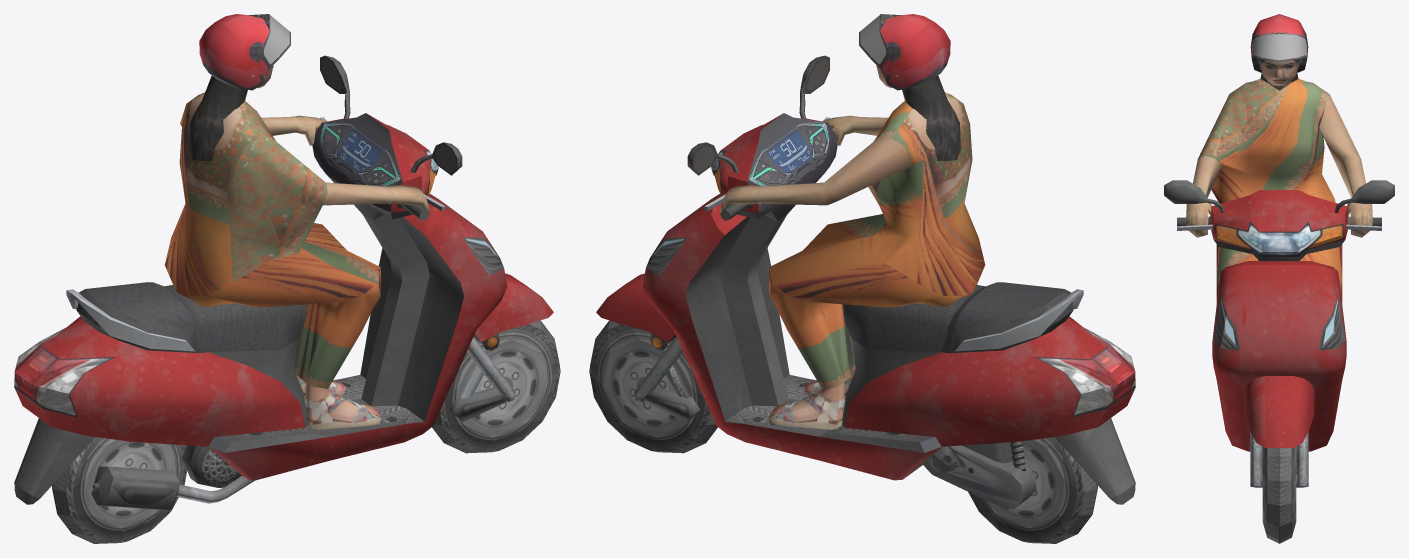
The model's file is sf_motorbike_02.glb.
The picture shows the model from 3 angles, left to right: view 1: azimuth 30°, elevation 25°; view 2: azimuth 150°, elevation 25°; view 3: azimuth 270°, elevation 25°; orthographic projection. The views are drawn at different scales.
Parts seen in each view (by area): view 1: traffic_motorbike_02, traffic_motorbike_02_front_traffic_motorbike_01_component_1_, traffic_motorbike_02_rear_traffic_motorbike_01_component_1_0, traffic_motorbike_02_light_break_traffic_motorbike_01_light_, traffic_motorbike_02_light_rear, traffic_motorbike_02_light, traffic_motorbike_02_turn_R; view 2: traffic_motorbike_02, traffic_motorbike_02_front_traffic_motorbike_01_component_1_, traffic_motorbike_02_rear_traffic_motorbike_01_component_1_0, traffic_motorbike_02_light_break_traffic_motorbike_01_light_, traffic_motorbike_02_light_rear, traffic_motorbike_02_light, traffic_motorbike_02_turn_L; view 3: traffic_motorbike_02, traffic_motorbike_02_light, traffic_motorbike_02_front_traffic_motorbike_01_component_1_, traffic_motorbike_02_turn_L, traffic_motorbike_02_turn_R.
Boxes of the visible parts, <box> form: traffic_motorbike_02: <box>14,14,553,509</box>; traffic_motorbike_02_front_traffic_motorbike_01_component_1_: <box>432,320,560,453</box>; traffic_motorbike_02_rear_traffic_motorbike_01_component_1_0: <box>52,437,186,543</box>; traffic_motorbike_02_light_break_traffic_motorbike_01_light_: <box>14,335,94,403</box>; traffic_motorbike_02_light_rear: <box>14,328,115,417</box>; traffic_motorbike_02_light: <box>423,150,503,275</box>; traffic_motorbike_02_turn_R: <box>42,166,436,393</box>; traffic_motorbike_02: <box>596,14,1135,508</box>; traffic_motorbike_02_front_traffic_motorbike_01_component_1_: <box>589,320,717,453</box>; traffic_motorbike_02_rear_traffic_motorbike_01_component_1_0: <box>968,437,1097,543</box>; traffic_motorbike_02_light_break_traffic_motorbike_01_light_: <box>1055,335,1135,403</box>; traffic_motorbike_02_light_rear: <box>1034,328,1135,417</box>; traffic_motorbike_02_light: <box>646,150,726,275</box>; traffic_motorbike_02_turn_L: <box>713,166,1107,393</box>; traffic_motorbike_02: <box>1164,14,1394,487</box>; traffic_motorbike_02_light: <box>1214,221,1344,350</box>; traffic_motorbike_02_front_traffic_motorbike_01_component_1_: <box>1262,447,1296,543</box>; traffic_motorbike_02_turn_L: <box>1306,224,1343,249</box>; traffic_motorbike_02_turn_R: <box>1215,224,1252,249</box>.
Bounding box in the file's own units: 1.74 × 1.53 × 0.7691.
3 materials, 3 textured.
